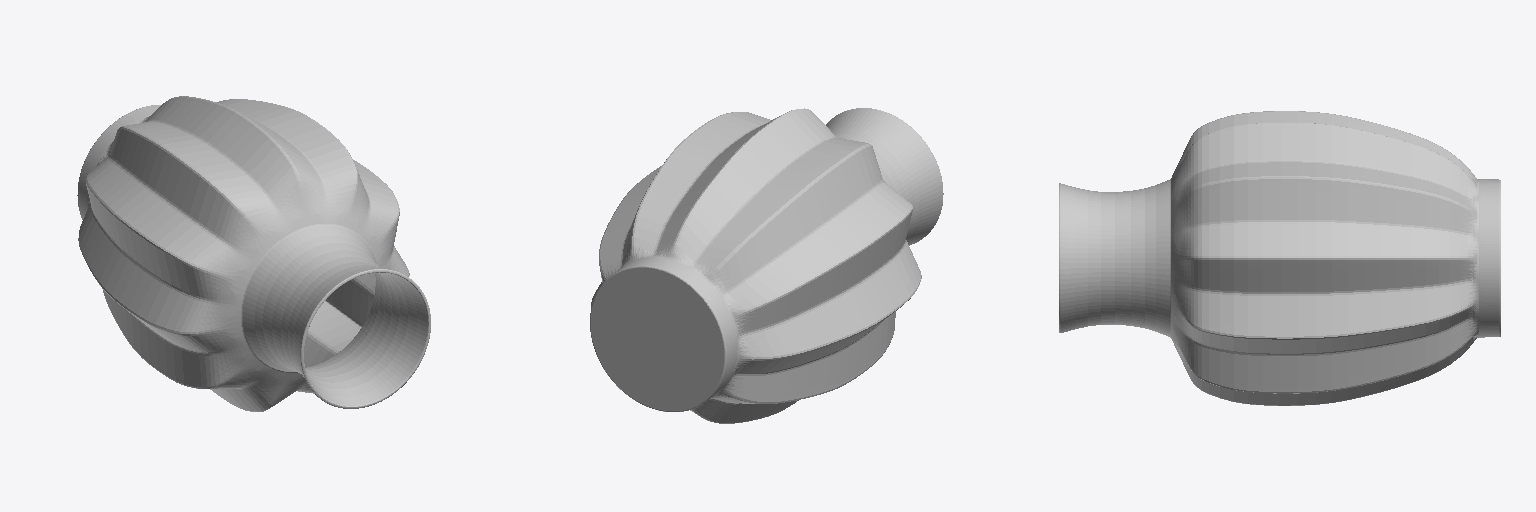
The model's file is 10327_Vase_v2_max2011_it1-1680702490502.obj.
The picture shows the model from 3 angles: view 1: azimuth 30°, elevation 25°; view 2: azimuth 150°, elevation 25°; view 3: azimuth 270°, elevation 25°; orthographic projection.
Visible parts, largest first — view 1: 10327_Vase_v1_max2010; view 2: 10327_Vase_v1_max2010; view 3: 10327_Vase_v1_max2010.
Boxes of the visible parts, <box> form: 10327_Vase_v1_max2010: <box>77,96,430,411</box>; 10327_Vase_v1_max2010: <box>590,108,943,423</box>; 10327_Vase_v1_max2010: <box>1059,111,1500,405</box>.
Size of the model in its own units: 40.61 by 40.26 by 60.94.